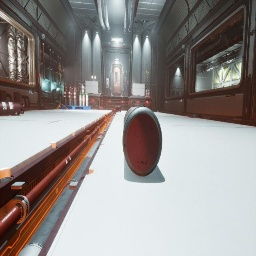0: (82, 90, 85, 106), (79, 90, 82, 106), (86, 89, 88, 106), (98, 92, 104, 95), (69, 106, 70, 107), (120, 96, 123, 96)
EmergencyPhone ,: (77, 86, 79, 91), (125, 77, 126, 81), (78, 88, 79, 89), (126, 78, 126, 79)
FireAlarm ,: (38, 72, 40, 78), (185, 80, 186, 85), (127, 81, 128, 85), (78, 93, 79, 94)
FireExtinguisher ]: (98, 106, 103, 110)
FirstAidBox ,: (114, 106, 121, 112), (112, 108, 115, 113), (118, 94, 120, 96), (142, 96, 145, 97)
NitrogenTank ,: (122, 106, 162, 177), (0, 101, 24, 116), (68, 85, 72, 105), (70, 86, 74, 105), (74, 85, 77, 106), (64, 85, 67, 105)
SafetySwitchPanel ,: (106, 78, 109, 88)
